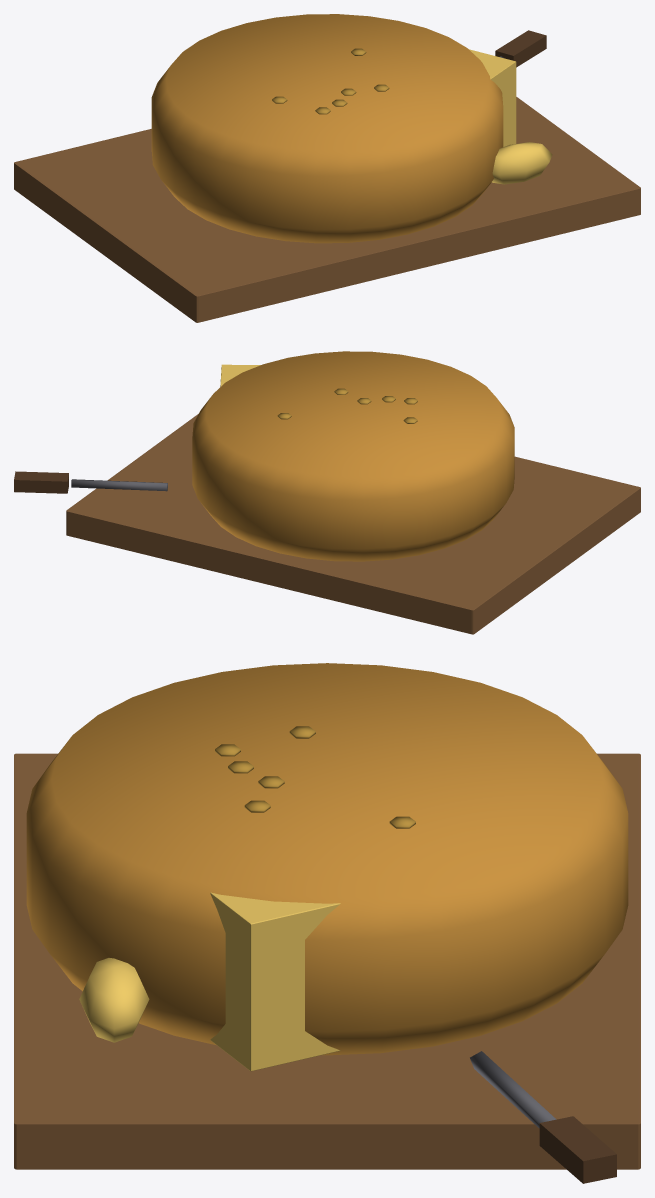
File: kaeserad.glb
3 renders of one model, top to bottom at view 1: azimuth 30°, elevation 25°; view 2: azimuth 150°, elevation 25°; view 3: azimuth 270°, elevation 25°, orthographic. The views are drawn at different scales.
Parts seen in each view (by area): view 1: Cube; view 2: Cube; view 3: Cube.
Part boxes in pixels (left/top/right/bottom): Cube: left=14, top=14, right=640, bottom=322; Cube: left=14, top=351, right=640, bottom=634; Cube: left=14, top=663, right=640, bottom=1183.
Size of the model in its own units: 0.8125 by 0.1834 by 0.5.
